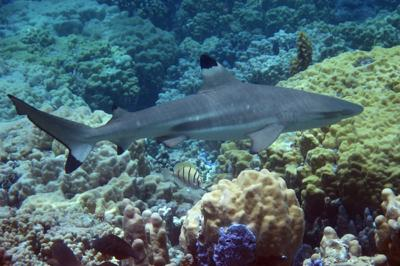Shark -Selachimorpha-: (6, 54, 365, 173)
